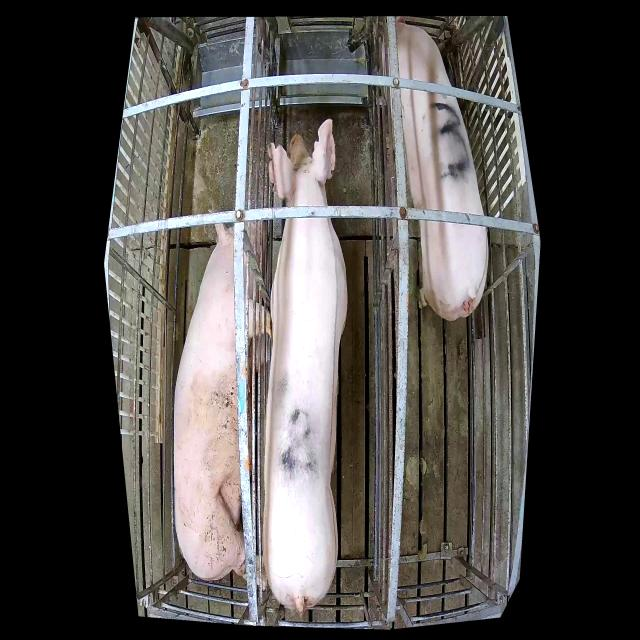pig: (262, 116, 349, 615), (174, 221, 274, 592), (382, 22, 489, 321)
